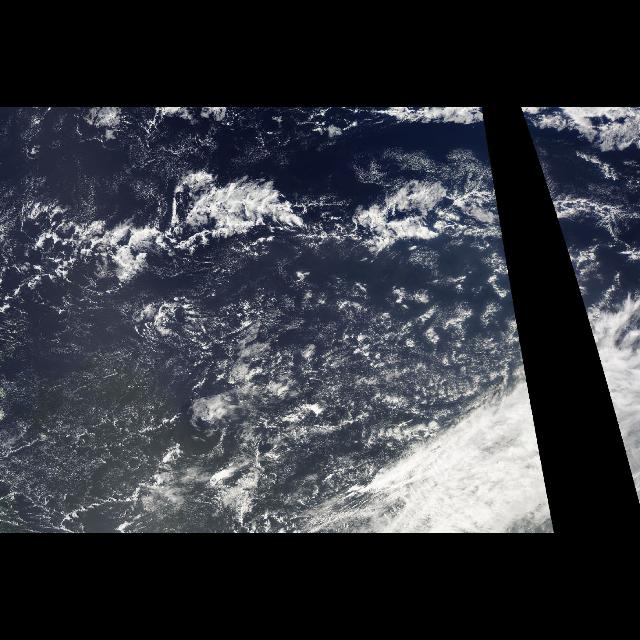Fish: (164, 156, 498, 274)
Gravel: (49, 304, 475, 481)
Sugar: (2, 308, 238, 530)
